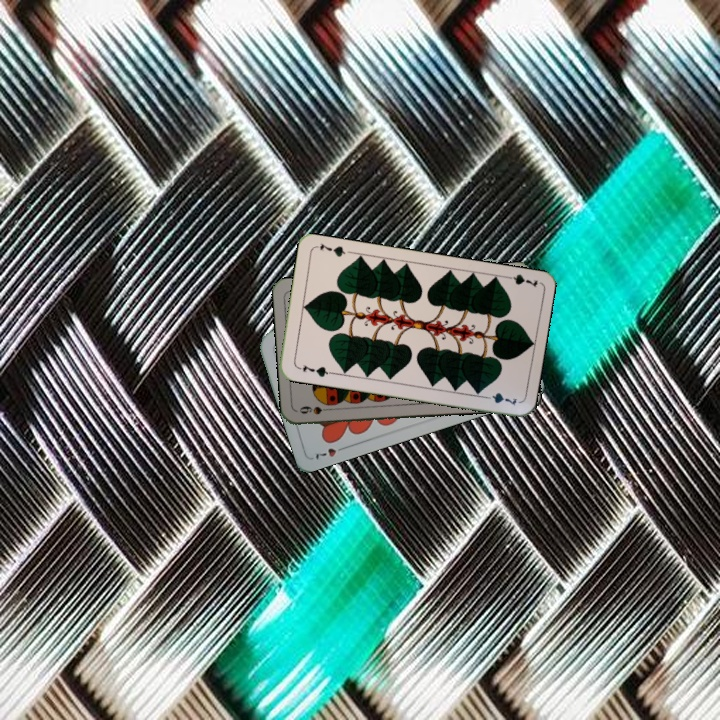G7: (499, 270, 540, 290), (293, 361, 334, 380)
H7: (310, 442, 349, 462)
S9: (295, 402, 336, 417)
